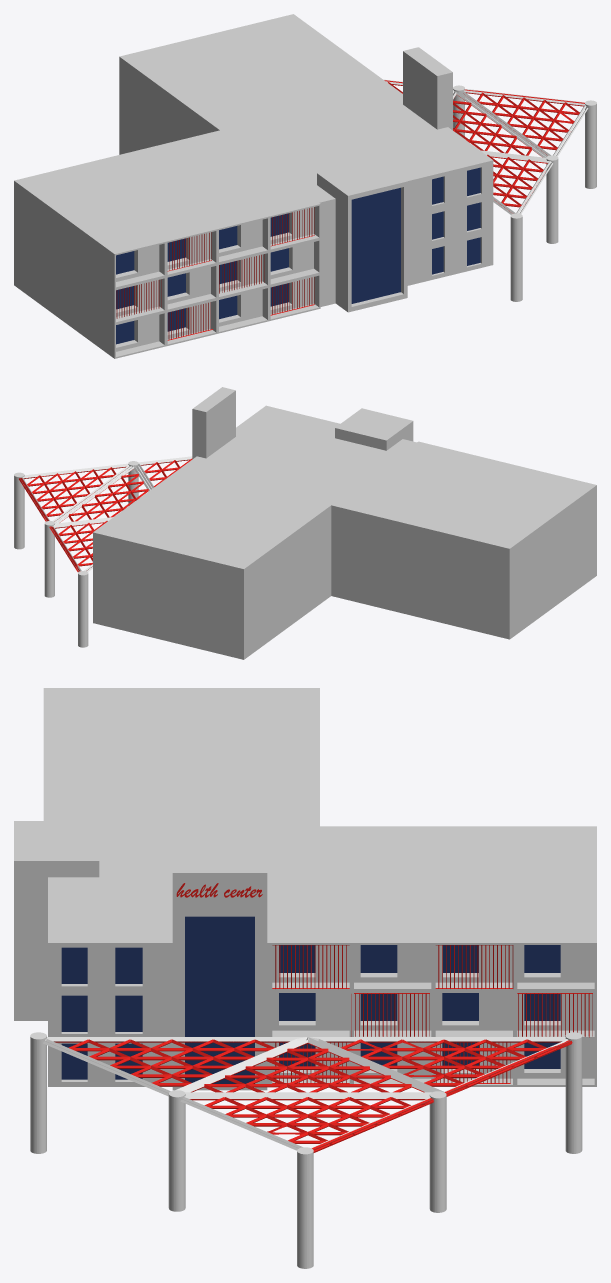
File: Health Center.fbx
3 renders of one model, top to bottom at view 1: azimuth 30°, elevation 25°; view 2: azimuth 150°, elevation 25°; view 3: azimuth 270°, elevation 25°, orthographic. The views are drawn at different scales.
Parts seen in each view (by area): view 1: Cube.003, Cube, Cube.001, Plane.003, Cylinder, Cube.002, Plane.004, Plane.002, Plane.005; view 2: Cube, Cube.003, Plane.003, Cylinder, Cube.002, Cube.001, Plane.002; view 3: Cube, Cube.003, Plane.003, Cube.002, Cylinder, Cube.001, Plane.002, Plane, Plane.001.
Part boxes in pixels (x1,y1,x2,y2): Cube.003: [14, 130, 320, 358]; Cube: [119, 14, 493, 306]; Cube.001: [317, 158, 407, 312]; Plane.003: [384, 80, 584, 213]; Cylinder: [453, 85, 596, 301]; Cube.002: [403, 47, 452, 130]; Plane.004: [116, 207, 314, 318]; Plane.002: [384, 79, 588, 214]; Plane.005: [167, 277, 314, 340]; Cube: [93, 405, 416, 659]; Cube.003: [331, 441, 596, 639]; Plane.003: [19, 458, 192, 571]; Cylinder: [14, 461, 138, 647]; Cube.002: [192, 387, 235, 459]; Cube.001: [335, 408, 413, 450]; Plane.002: [22, 456, 192, 571]; Cube: [48, 826, 596, 1086]; Cube.003: [43, 688, 319, 826]; Plane.003: [54, 1039, 572, 1152]; Cube.002: [172, 862, 267, 1090]; Cylinder: [30, 1032, 582, 1268]; Cube.001: [14, 821, 99, 1020]; Plane.002: [43, 1037, 570, 1150]; Plane: [272, 945, 592, 1037]; Plane.001: [272, 1042, 510, 1083].
Bounding box in the file's own units: 1153 × 372 × 735.
